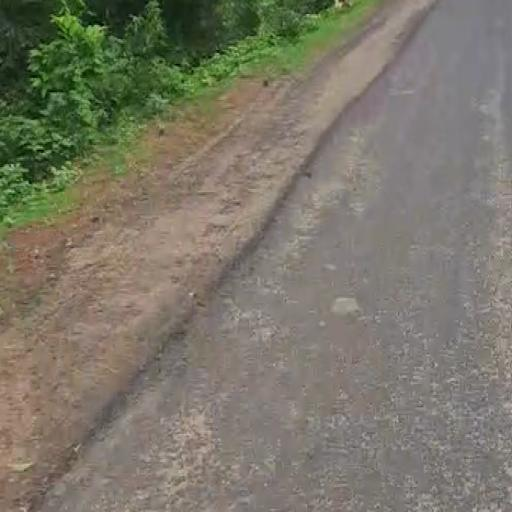edge_damage: (70, 107, 393, 454)
